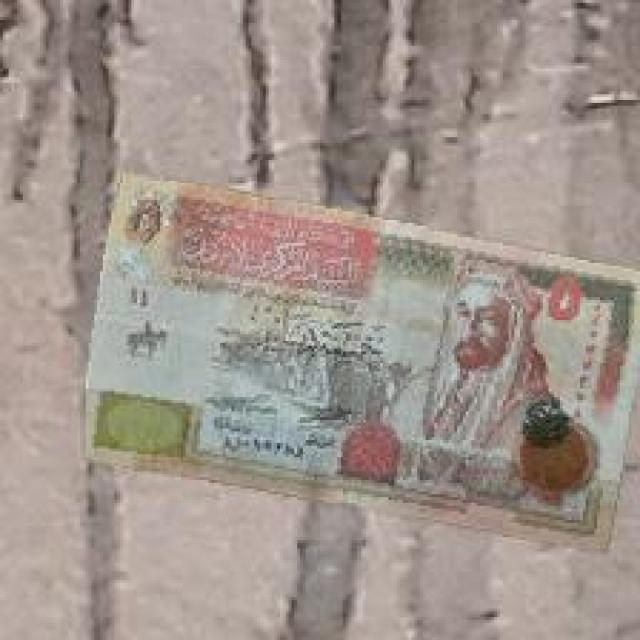5-dinar: (83, 172, 640, 557)
